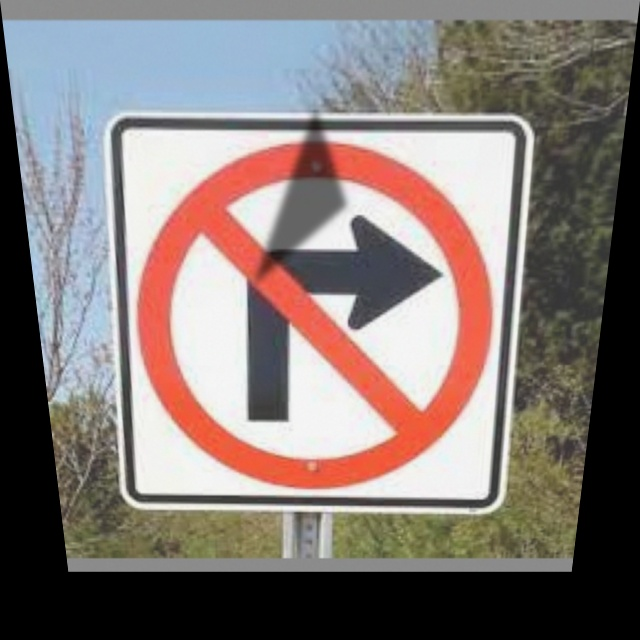Right_Turn_Prohibited: (119, 119, 514, 489)
